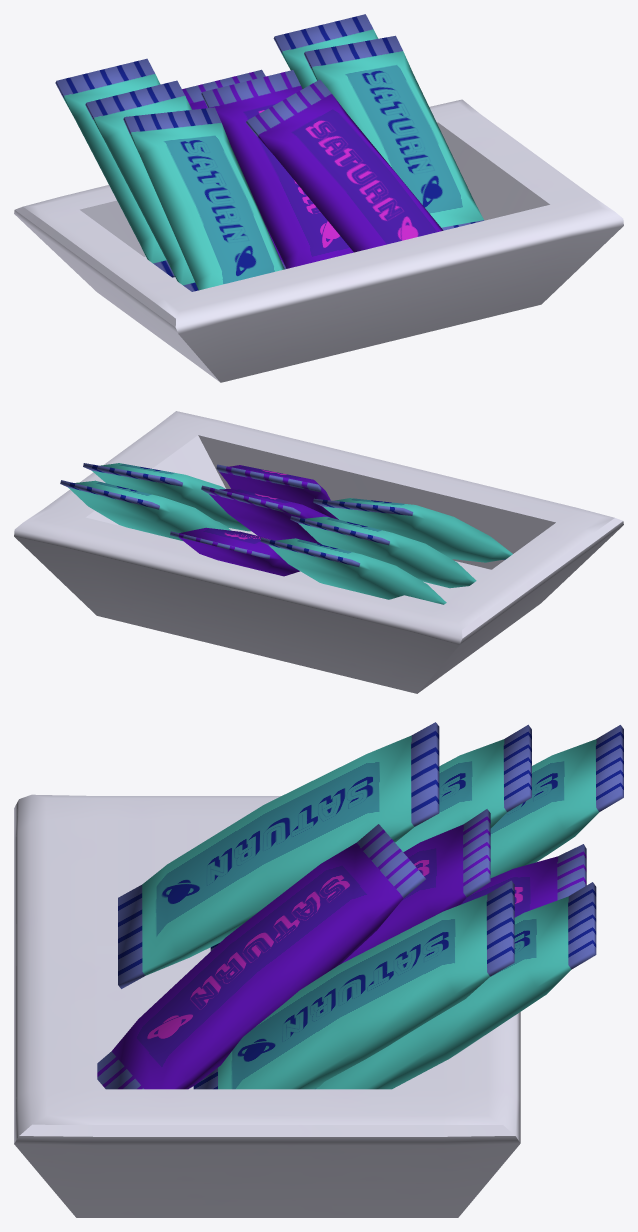
The model's file is asset_CounterBasket1_Cluttered.fbx.
The picture shows the model from 3 angles, top to bottom: view 1: azimuth 30°, elevation 25°; view 2: azimuth 150°, elevation 25°; view 3: azimuth 270°, elevation 25°; orthographic projection. The views are drawn at different scales.
Visible parts, largest first — view 1: asset_CounterBasket1, chocolateA5, chocolateB2, chocolateA7, chocolateB1, chocolateA4, chocolateA3, chocolateA8, chocolateB; view 2: asset_CounterBasket1, chocolateA5, chocolateA3, chocolateA4, chocolateA8, chocolateA7, chocolateB1, chocolateB, chocolateB2; view 3: asset_CounterBasket1, chocolateA5, chocolateB2, chocolateA7, chocolateA8, chocolateA3, chocolateA4, chocolateB1, chocolateB.
Part boxes in pixels (box(x1,y1,x2,y2)): asset_CounterBasket1: box(14, 99, 623, 382); chocolateA5: box(123, 107, 284, 290); chocolateB2: box(246, 79, 443, 252); chocolateA7: box(304, 35, 484, 230); chocolateB1: box(201, 70, 353, 268); chocolateA4: box(85, 80, 198, 291); chocolateA3: box(55, 58, 174, 277); chocolateA8: box(273, 14, 378, 88); chocolateB: box(182, 69, 286, 269); asset_CounterBasket1: box(14, 411, 623, 693); chocolateA5: box(313, 498, 512, 562); chocolateA3: box(260, 537, 446, 604); chocolateA4: box(290, 516, 476, 588); chocolateA8: box(60, 480, 230, 540); chocolateA7: box(83, 463, 250, 531); chocolateB1: box(201, 485, 330, 544); chocolateB: box(170, 527, 299, 576); chocolateB2: box(216, 464, 338, 519); asset_CounterBasket1: box(14, 794, 520, 1217); chocolateA5: box(118, 722, 439, 988); chocolateB2: box(97, 824, 425, 1089); chocolateA7: box(193, 880, 514, 1089); chocolateA8: box(314, 882, 596, 1089); chocolateA3: box(490, 725, 623, 877); chocolateA4: box(210, 724, 531, 950); chocolateB1: box(342, 809, 490, 963); chocolateB: box(461, 844, 586, 917).
Size of the model in its own units: 54.91 by 20.56 by 42.04.
